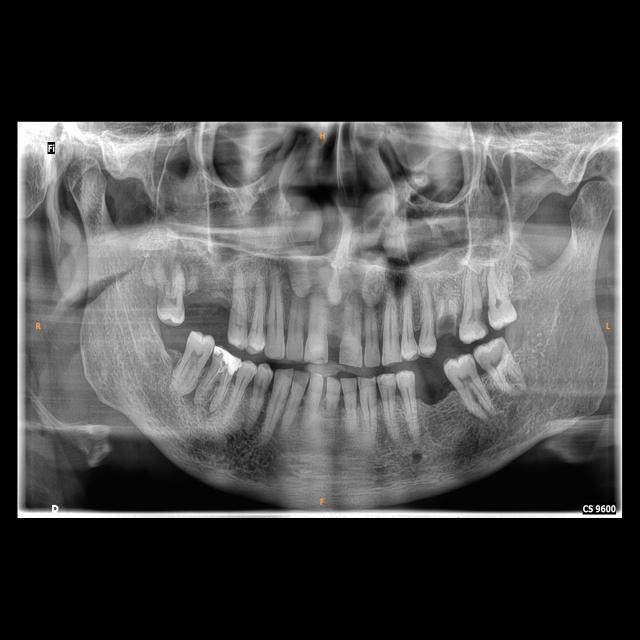dentin-curugu: (437, 310, 458, 339), (154, 286, 168, 309), (477, 306, 488, 334)
dolgu: (211, 346, 242, 375)
